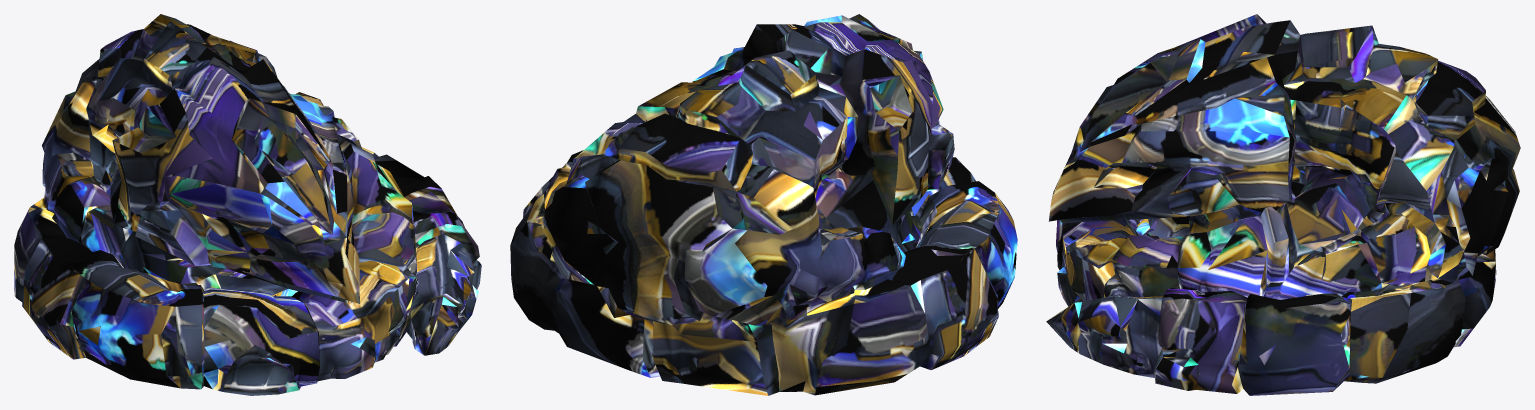
File: creep_serpent_3d_LOD2.fbx
3 renders of one model, left to right at view 1: azimuth 30°, elevation 25°; view 2: azimuth 150°, elevation 25°; view 3: azimuth 270°, elevation 25°, orthographic. The views are drawn at different scales.
Visible parts, largest first — view 1: Mesh1.0; view 2: Mesh1.0; view 3: Mesh1.0.
Boxes of the visible parts, x1=… form: Mesh1.0: x1=14, y1=14, x2=481, y2=395; Mesh1.0: x1=510, y1=14, x2=1017, y2=395; Mesh1.0: x1=1046, y1=14, x2=1520, y2=395.
Size of the model in its own units: 90.14 by 54.66 by 88.64.
